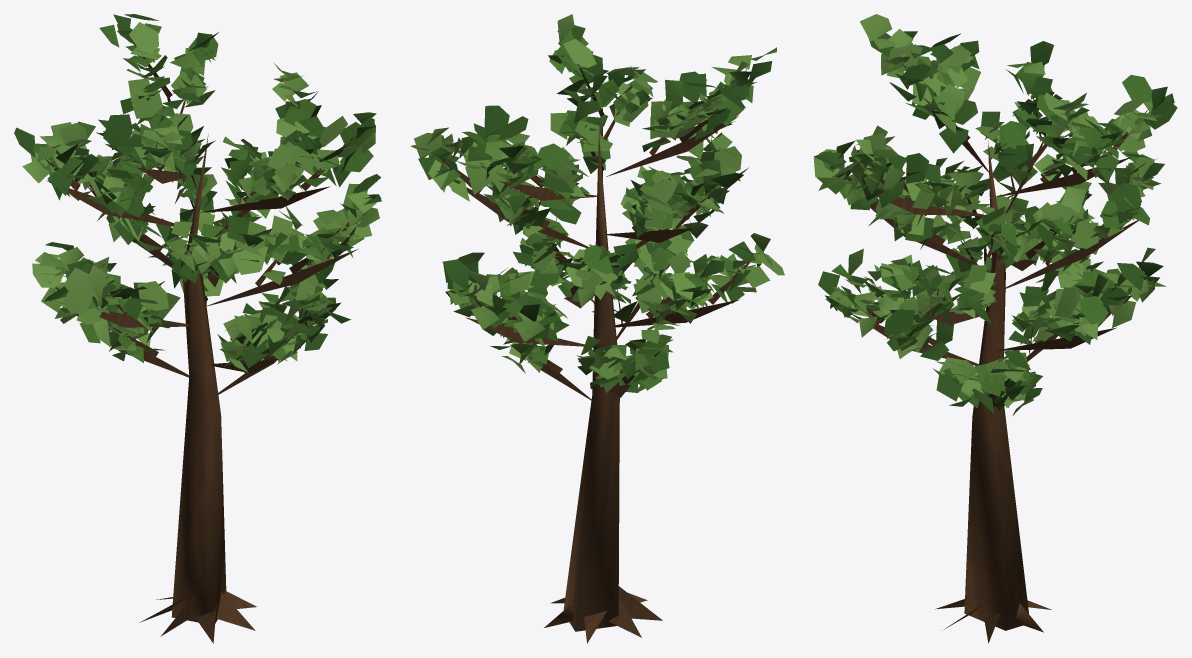
3 views of the same model, side by side, from view 1: azimuth 30°, elevation 25°; view 2: azimuth 150°, elevation 25°; view 3: azimuth 270°, elevation 25° (orthographic).
Visible parts, largest first — view 1: static_tree_deciduous_13; view 2: static_tree_deciduous_13; view 3: static_tree_deciduous_13.
Boxes of the visible parts, x1,y1,x2,y2 form: static_tree_deciduous_13: (14, 14, 381, 643); static_tree_deciduous_13: (410, 14, 784, 643); static_tree_deciduous_13: (813, 14, 1177, 643).
Size of the model in its own units: 3 by 4.99 by 3.
5 materials, 1 textured.
